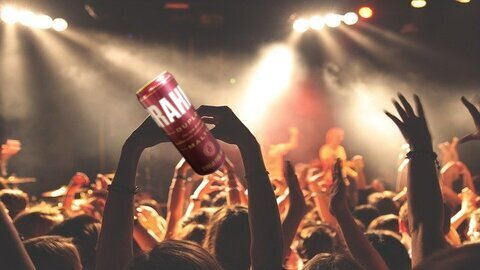duplo_malte: (127, 70, 230, 173)
